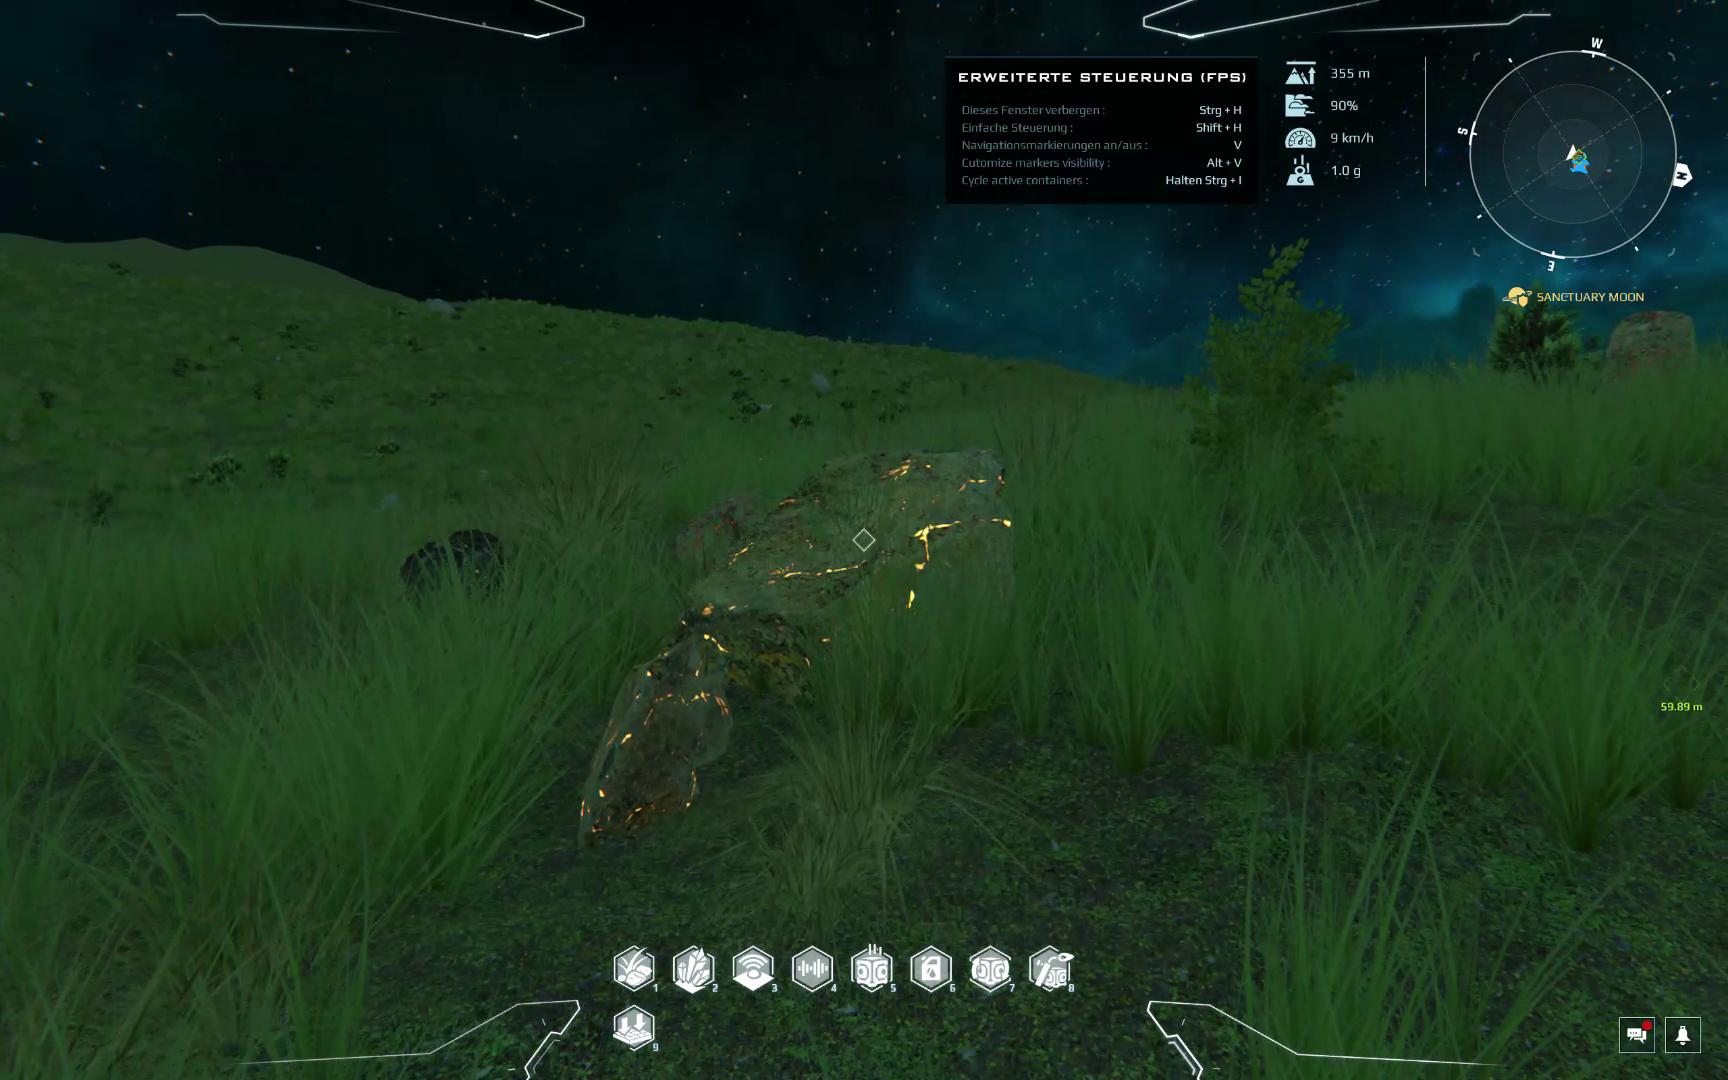Ore: (678, 450, 1013, 732), (570, 640, 736, 854), (401, 529, 515, 611), (671, 498, 781, 580)
